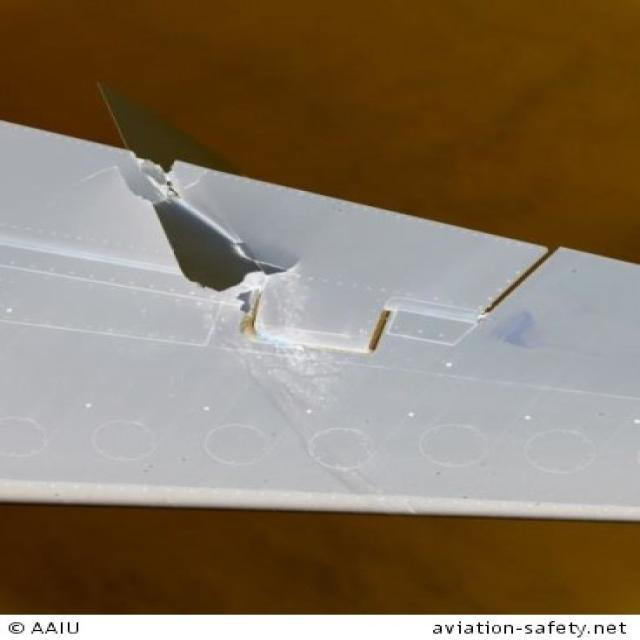crack: (118, 149, 308, 295)
